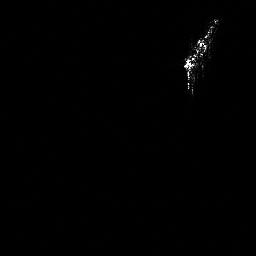ship: (179, 16, 223, 96)
